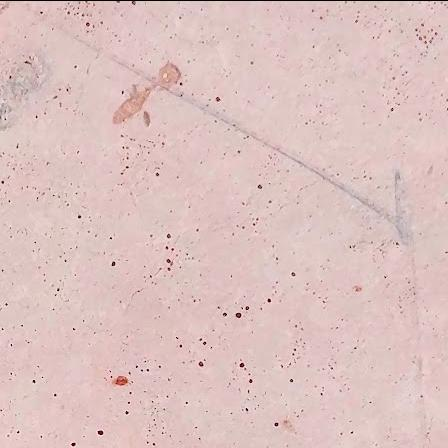crack: (118, 223, 195, 321)
